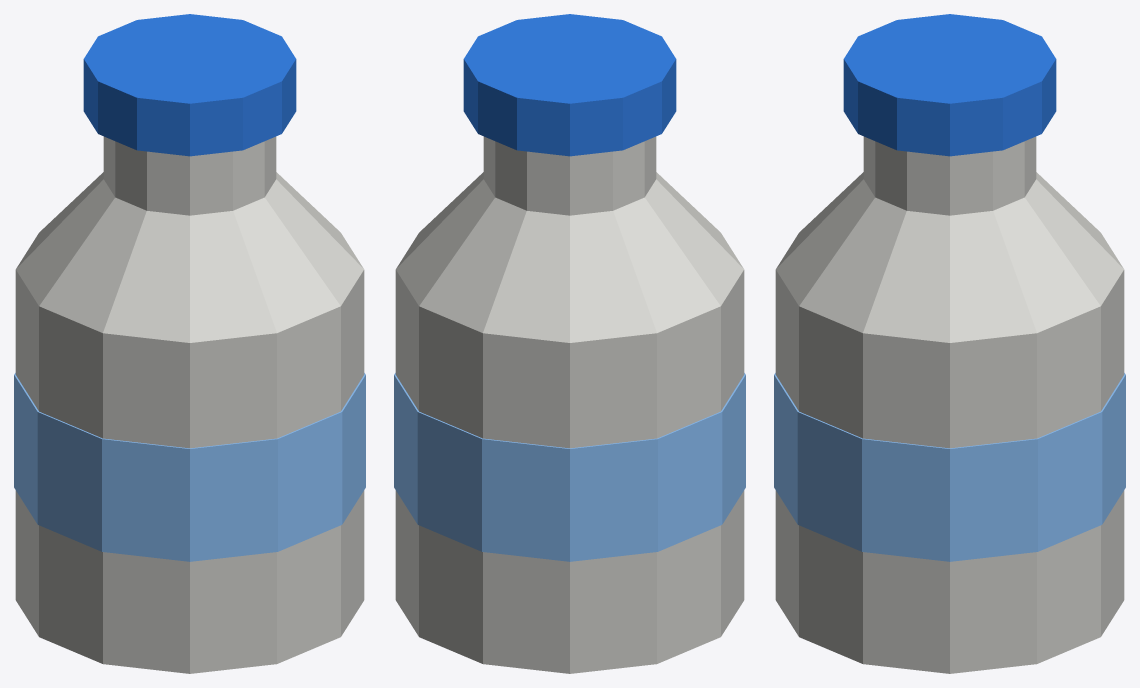
Rendered from Sut_Model.glb.
3 views of the same model, side by side, from view 1: azimuth 30°, elevation 25°; view 2: azimuth 150°, elevation 25°; view 3: azimuth 270°, elevation 25° (orthographic).
Parts seen in each view (by area): view 1: Sut_Model; view 2: Sut_Model; view 3: Sut_Model.
Part boxes in pixels (box(x1,y1,x2,y2)): Sut_Model: box(14, 14, 365, 673); Sut_Model: box(394, 14, 745, 673); Sut_Model: box(774, 14, 1125, 673).
Size of the model in its own units: 0.212 by 0.36 by 0.212.
